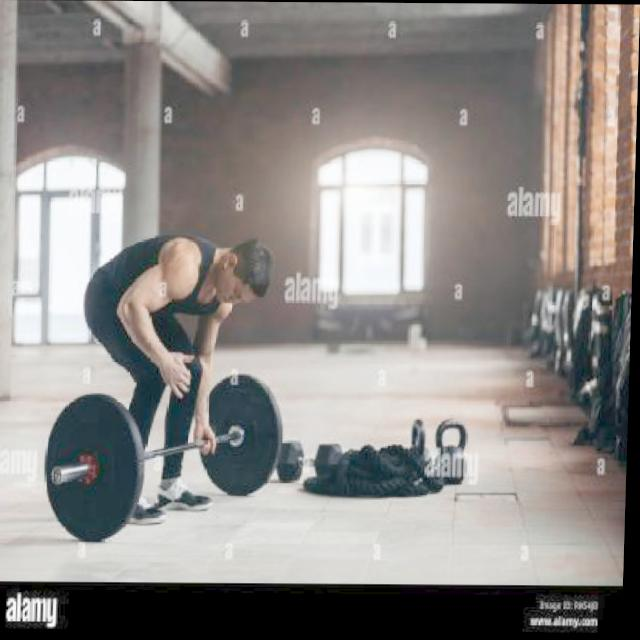barbell: (43, 390, 147, 547)
